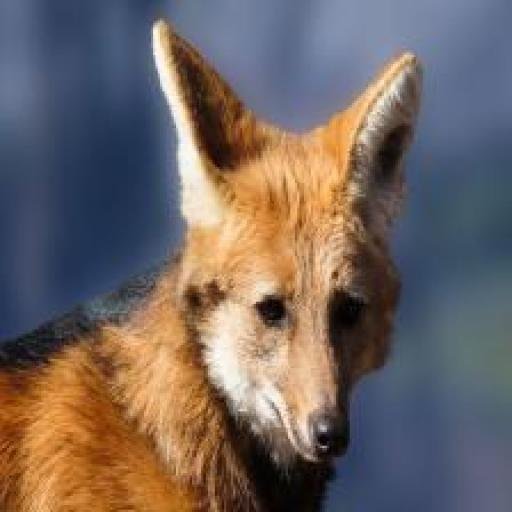wolf: (2, 20, 426, 512)
